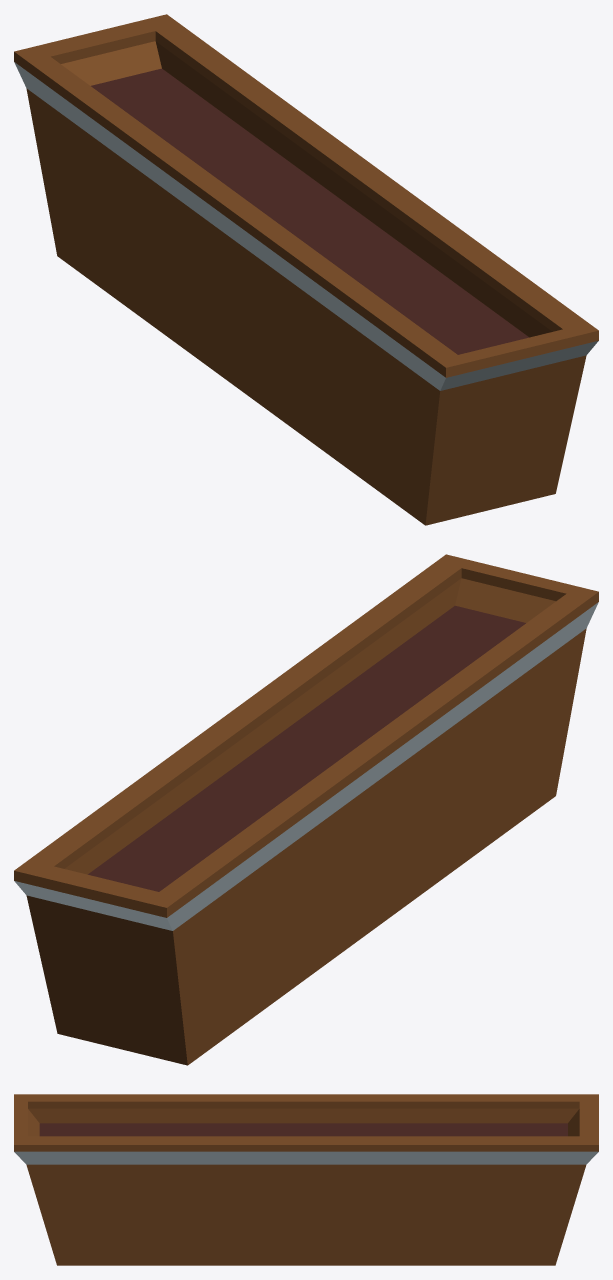
File: saksı2.fbx
3 renders of one model, top to bottom at view 1: azimuth 30°, elevation 25°; view 2: azimuth 150°, elevation 25°; view 3: azimuth 270°, elevation 25°, orthographic. The views are drawn at different scales.
Parts seen in each view (by area): view 1: Cube; view 2: Cube; view 3: Cube.
Boxes of the visible parts, x1,y1,x2,y2 form: Cube: (14, 14, 598, 525); Cube: (14, 554, 598, 1065); Cube: (14, 1094, 598, 1265).
Bounding box in the file's own units: 1023 × 209 × 240.
